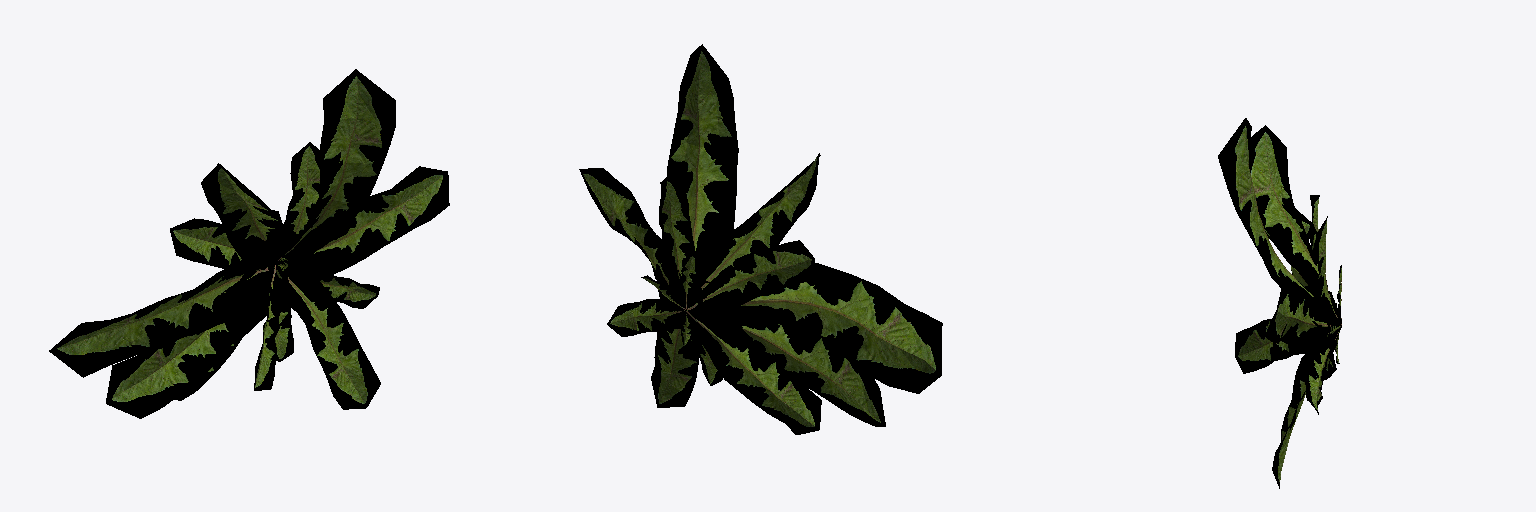
3 views of the same model, side by side, from view 1: azimuth 30°, elevation 25°; view 2: azimuth 150°, elevation 25°; view 3: azimuth 270°, elevation 25° (orthographic).
Parts seen in each view (by area): view 1: GC17_1; view 2: GC17_1; view 3: GC17_1.
Part boxes in pixels (x1,y1,x2,y2): GC17_1: (49, 69, 449, 418); GC17_1: (579, 44, 942, 434); GC17_1: (1218, 118, 1341, 488).
Bounding box in the file's own units: 0.6701 × 0.6024 × 0.19.
Materials: 1 (1 with a texture image).